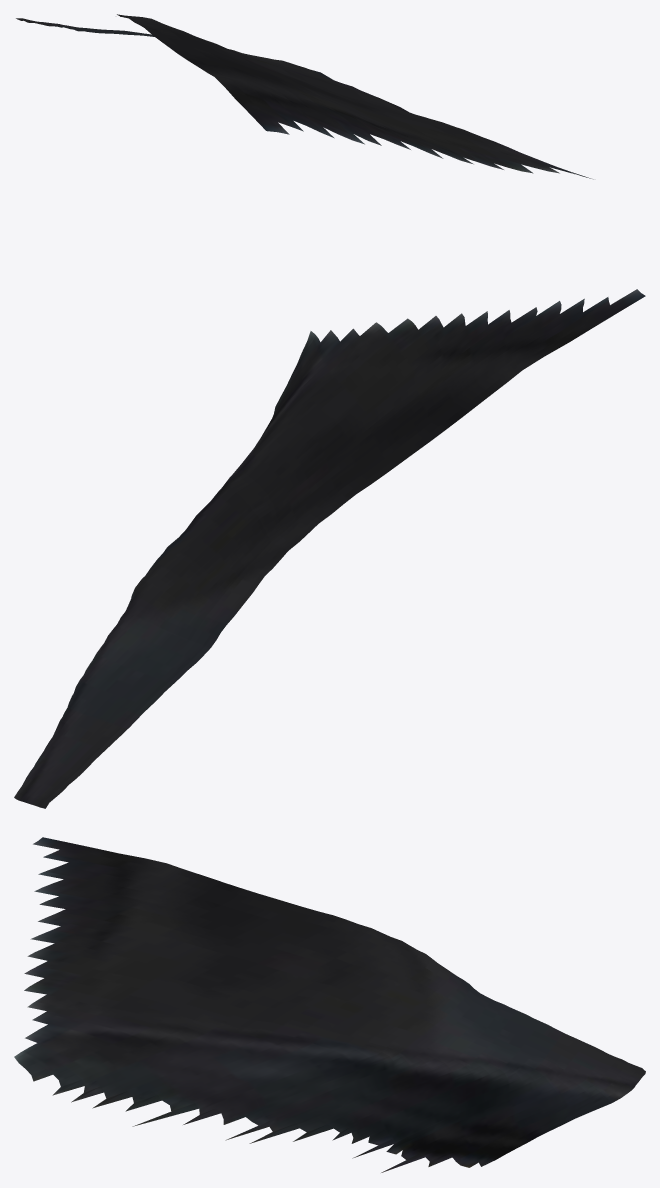
Rendered from observed-surface.glb.
3 renders of one model, top to bottom at view 1: azimuth 30°, elevation 25°; view 2: azimuth 150°, elevation 25°; view 3: azimuth 270°, elevation 25°, orthographic. The views are drawn at different scales.
Parts seen in each view (by area): view 1: geometry_0; view 2: geometry_0; view 3: geometry_0.
Boxes of the visible parts, x1,y1,x2,y2 form: geometry_0: [16, 14, 593, 179]; geometry_0: [14, 289, 645, 808]; geometry_0: [14, 837, 645, 1172].
Bounding box in the file's own units: 0.4522 × 0.4128 × 0.9765.
1 material, 1 textured.
